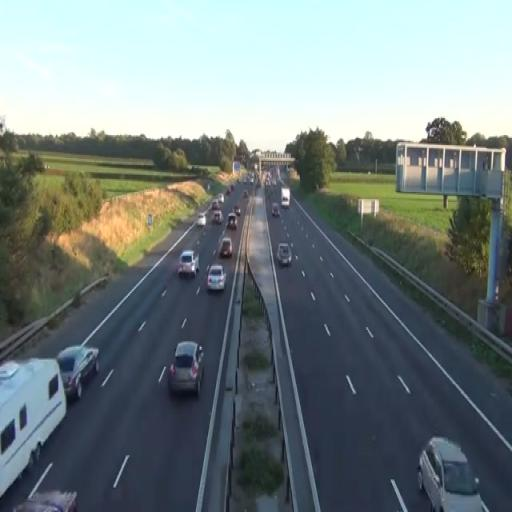Car: (416, 435, 488, 512), (56, 344, 100, 403), (168, 340, 205, 398), (205, 264, 226, 292), (178, 250, 199, 278), (277, 242, 292, 267), (219, 237, 232, 258), (212, 209, 224, 225), (227, 214, 237, 230)
Truck: (0, 356, 67, 500)
